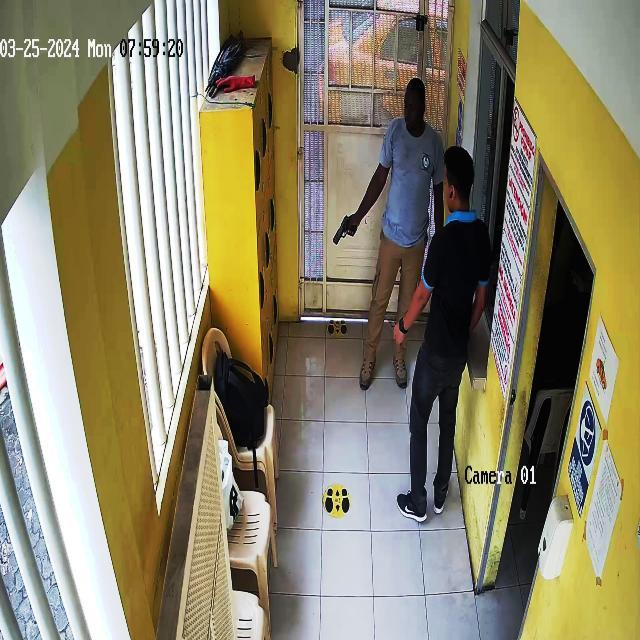Gun: (326, 211, 366, 256)
